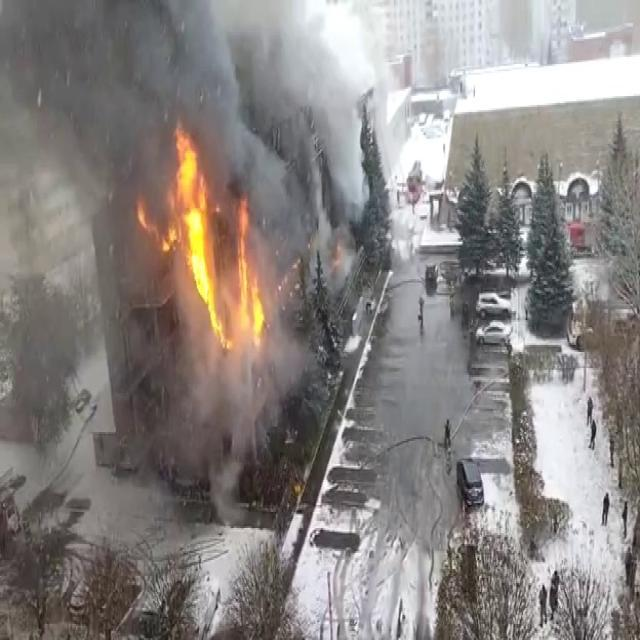Fire: (160, 125, 270, 358)
Smoke: (0, 0, 369, 489)
